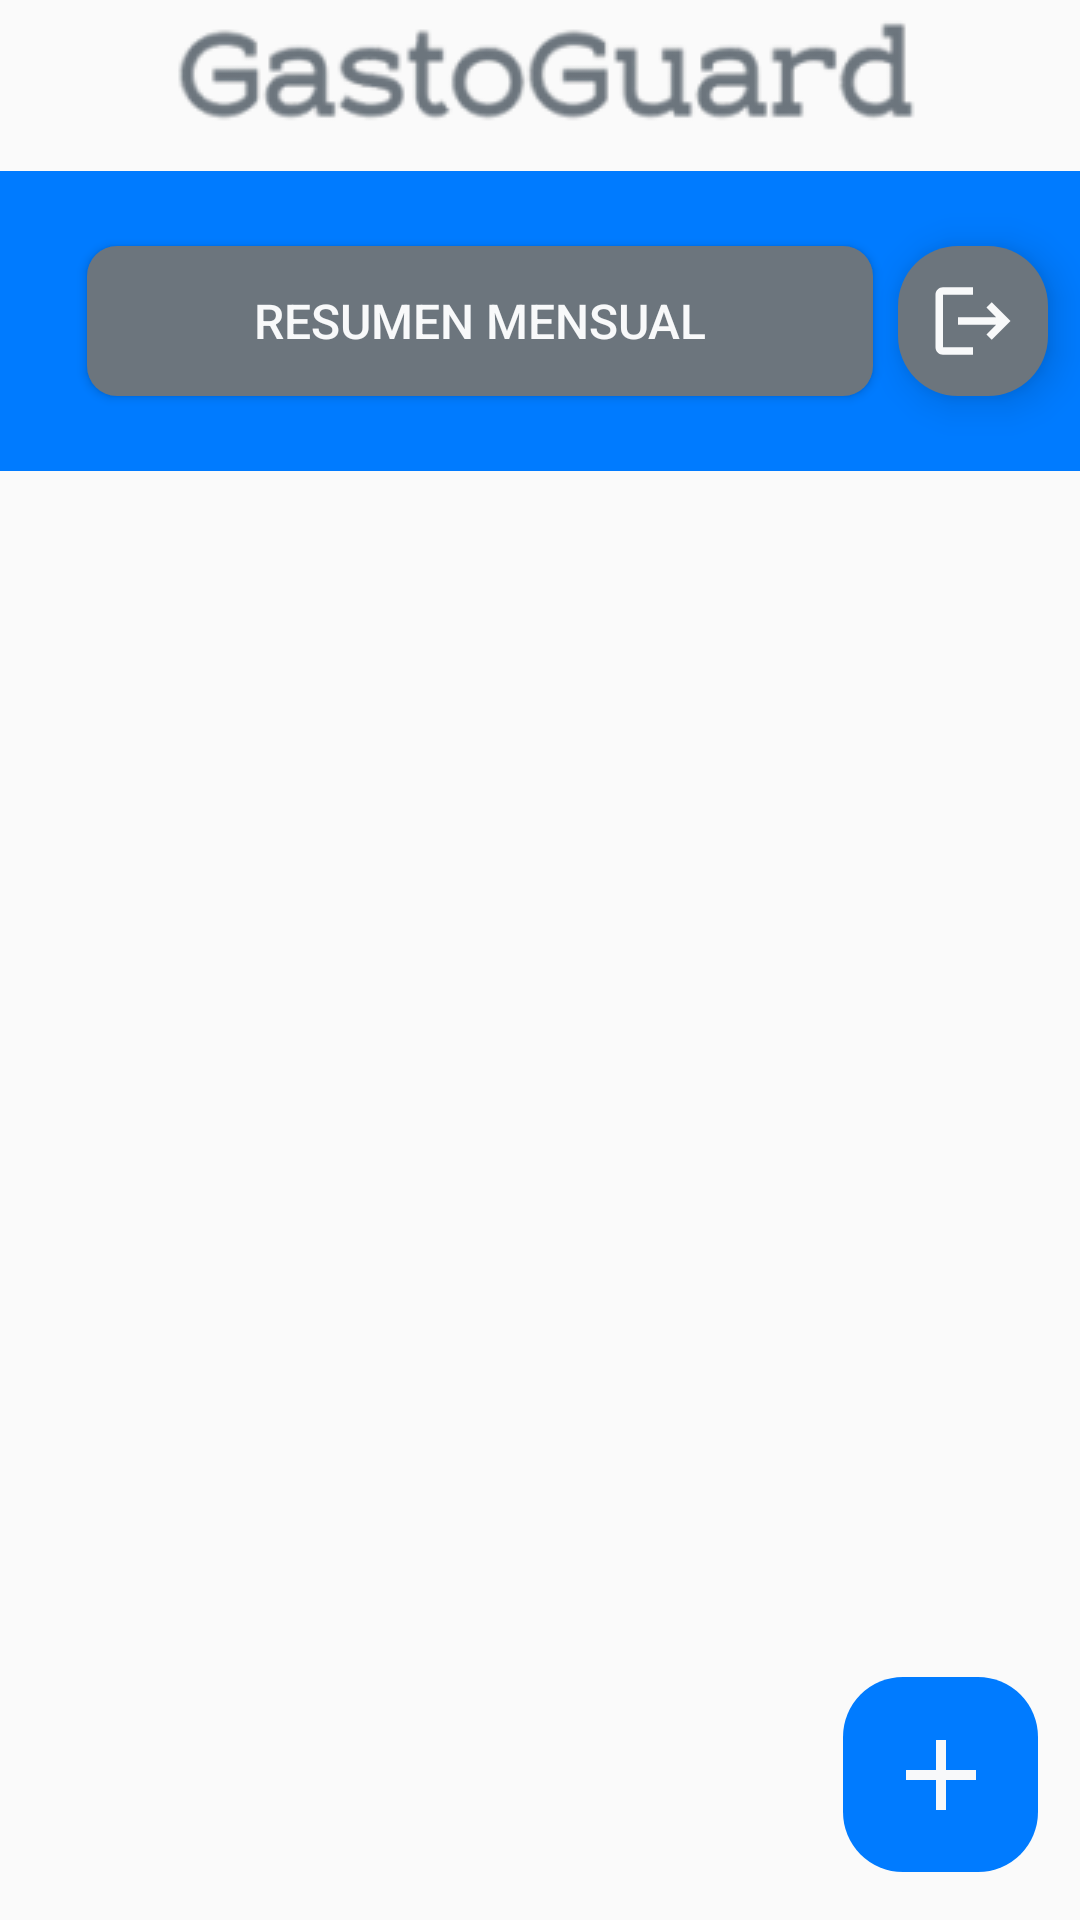

Screen size 1080x1920. Icon name, then its box in pixels as (x1,y1,x2,y2):
add: (843,1677,1038,1872)
